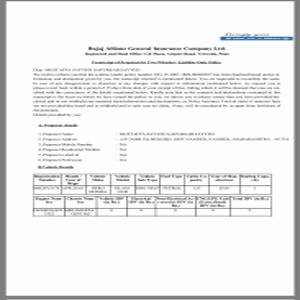image: (217, 31, 293, 45)
table: (31, 173, 273, 196), (31, 196, 273, 218)
text: (32, 66, 282, 117), (37, 122, 290, 170), (83, 44, 231, 66)
